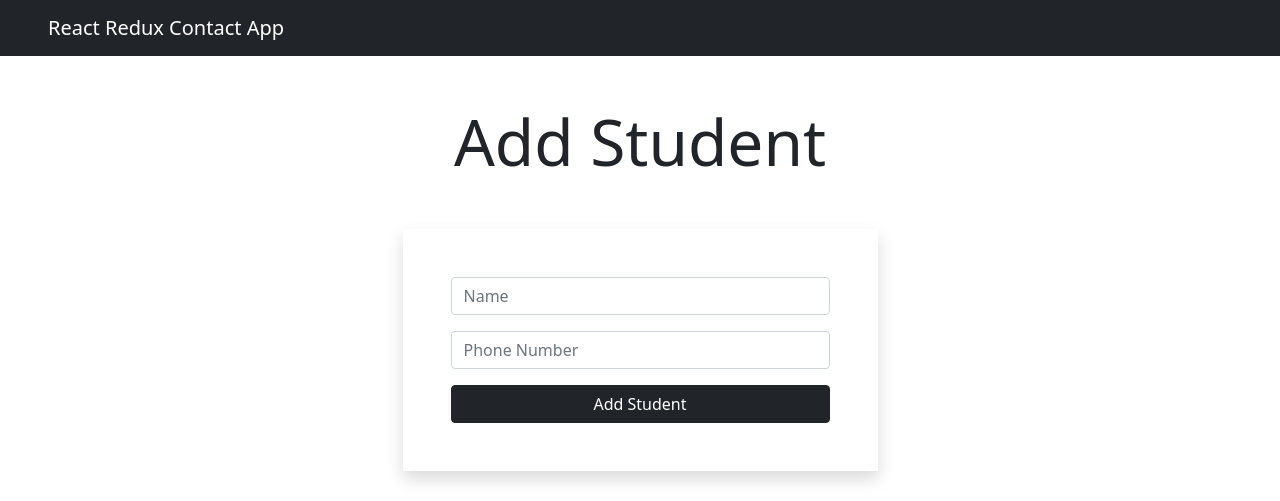
App › input elements should be displaying typed inputs
Expected: the text "Add Contact" is not shown
Type "Theophilus Boakye" into the field with placeholder "Name" at [640, 296], box [450,277,830,315]
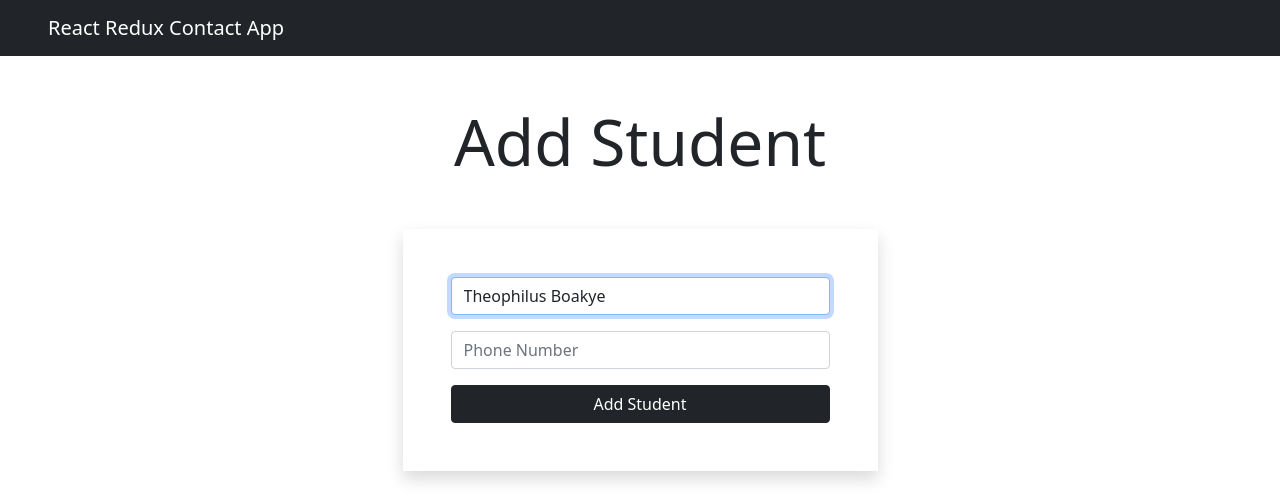
Type "0559650621" into the number field with placeholder "Phone Number" at [640, 350], box [450,331,830,369]
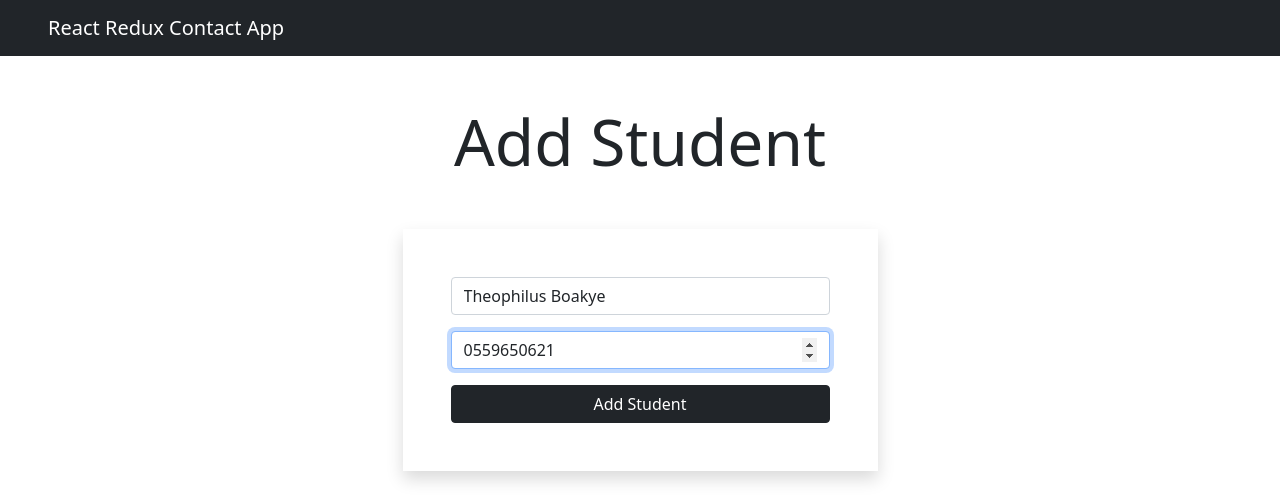
Click the button "Add Student" at [640, 404], box [450,385,830,423]
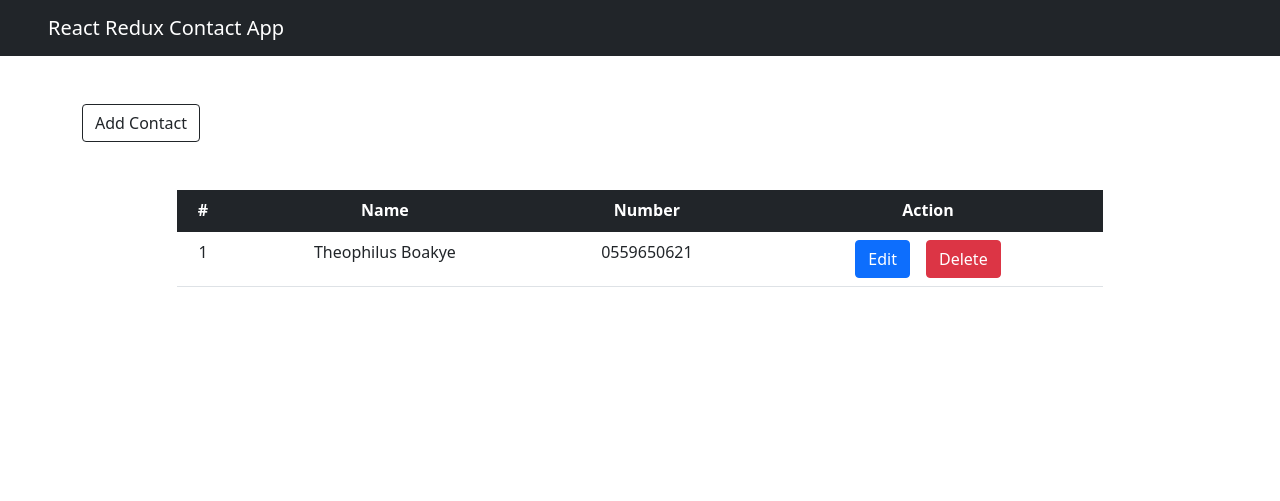
Expected: the heading "Add Student" is gone
Expected: the table is shown, [177,190,1103,287]
